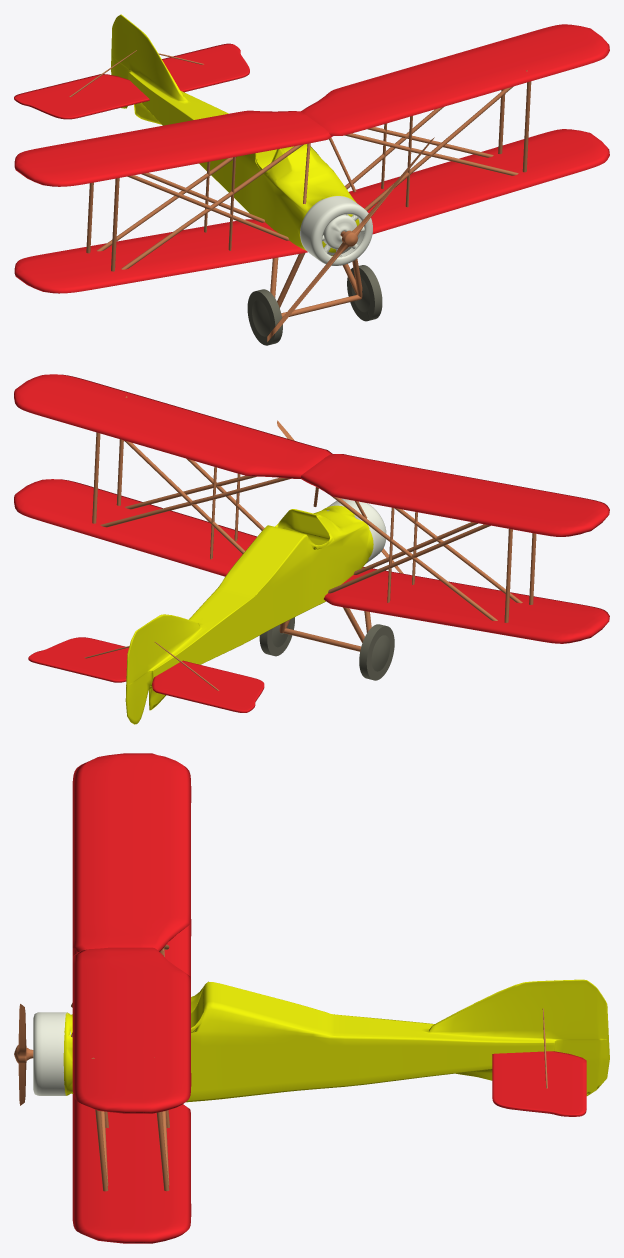
Rendered from TestBiplane.fbx.
The picture shows the model from 3 angles, top to bottom: view 1: azimuth 30°, elevation 25°; view 2: azimuth 150°, elevation 25°; view 3: azimuth 270°, elevation 25°; orthographic projection. The views are drawn at different scales.
Visible parts, largest first — view 1: wing002, wing001, body, wing003, wing, Plane005, Plane004, Cylinder018, Cylinder017, Cylinder040, Cylinder016, Cylinder010 (+10 smaller); view 2: body, wing002, wing001, wing, wing003, Plane005, Plane004, Cylinder017, Cylinder026, Cylinder019, Cylinder018, Cylinder024 (+6 smaller); view 3: body, wing001, wing002, wing003, Plane004, Cylinder018, wing, Cylinder040.
Boxes of the visible parts, bbox=[...] form: wing002: bbox=[301, 24, 609, 135]; wing001: bbox=[14, 110, 332, 186]; body: bbox=[111, 14, 359, 255]; wing003: bbox=[349, 129, 609, 234]; wing: bbox=[14, 219, 307, 293]; Plane005: bbox=[14, 74, 149, 119]; Plane004: bbox=[162, 43, 249, 92]; Cylinder018: bbox=[300, 196, 372, 265]; Cylinder017: bbox=[247, 289, 282, 345]; Cylinder040: bbox=[267, 137, 434, 341]; Cylinder016: bbox=[347, 265, 382, 321]; Cylinder010: bbox=[121, 144, 303, 269]; body: bbox=[125, 505, 373, 724]; wing002: bbox=[14, 374, 332, 478]; wing001: bbox=[300, 454, 609, 536]; wing: bbox=[324, 567, 609, 643]; wing003: bbox=[14, 479, 256, 576]; Plane005: bbox=[152, 660, 264, 712]; Plane004: bbox=[28, 637, 128, 682]; Cylinder017: bbox=[359, 624, 394, 680]; Cylinder026: bbox=[331, 496, 497, 620]; Cylinder019: bbox=[100, 477, 290, 527]; Cylinder018: bbox=[326, 498, 386, 563]; Cylinder024: bbox=[328, 524, 490, 593]; body: bbox=[63, 979, 609, 1102]; wing001: bbox=[72, 753, 191, 951]; wing002: bbox=[72, 947, 191, 1113]; wing003: bbox=[72, 1094, 191, 1243]; Plane004: bbox=[492, 1051, 586, 1116]; Cylinder018: bbox=[33, 1012, 70, 1095]; wing: bbox=[72, 919, 191, 979]; Cylinder040: bbox=[14, 1004, 33, 1105].
Bounding box in the file's own units: 2121 × 778 × 1524.
